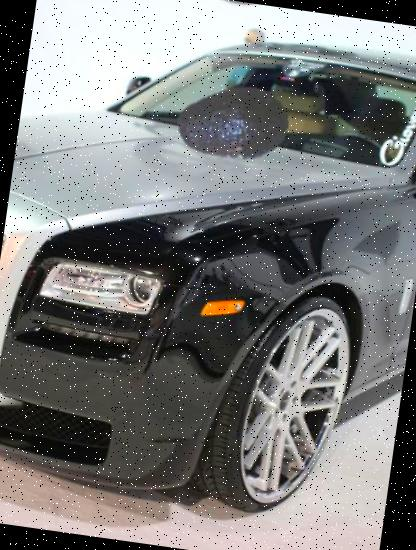Avocado: (169, 58, 297, 186)
